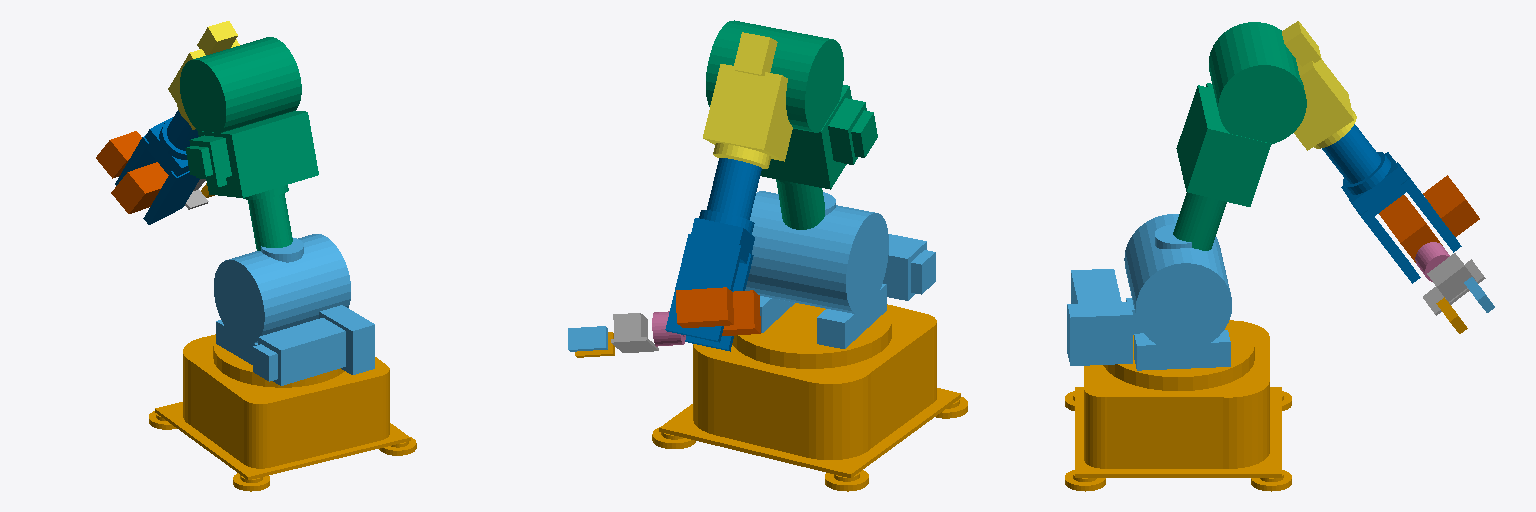
URDF robot description (niryo_ned):
<?xml version="1.0"?>
<robot name="niryo_ned" xmlns:xacro="http://ros.org/wiki/xacro">
  <link name="base_link">
    <visual>
      <origin xyz="0.09 0.09 0.003" rpy="0 0 0"/>
      <geometry>
        <cylinder radius="0.02" length="0.006"/>
      </geometry>
    </visual>
    <collision>
      <origin xyz="0.09 0.09 0.003" rpy="0 0 0"/>
      <geometry>
        <cylinder radius="0.02" length="0.006"/>
      </geometry>
    </collision>
    <visual>
      <origin xyz="-0.09 0.09 0.003" rpy="0 0 0"/>
      <geometry>
        <cylinder radius="0.02" length="0.006"/>
      </geometry>
    </visual>
    <collision>
      <origin xyz="-0.09 0.09 0.003" rpy="0 0 0"/>
      <geometry>
        <cylinder radius="0.02" length="0.006"/>
      </geometry>
    </collision>
    <visual>
      <origin xyz="0.09 -0.09 0.003" rpy="0 0 0"/>
      <geometry>
        <cylinder radius="0.02" length="0.006"/>
      </geometry>
    </visual>
    <collision>
      <origin xyz="0.09 -0.09 0.003" rpy="0 0 0"/>
      <geometry>
        <cylinder radius="0.02" length="0.006"/>
      </geometry>
    </collision>
    <visual>
      <origin xyz="-0.09 -0.09 0.003" rpy="0 0 0"/>
      <geometry>
        <cylinder radius="0.02" length="0.006"/>
      </geometry>
    </visual>
    <collision>
      <origin xyz="-0.09 -0.09 0.003" rpy="0 0 0"/>
      <geometry>
        <cylinder radius="0.02" length="0.006"/>
      </geometry>
    </collision>
    <visual>
      <origin xyz="0.09 0.09 0.008" rpy="0 0 0"/>
      <geometry>
        <cylinder radius="0.012" length="0.004"/>
      </geometry>
    </visual>
    <collision>
      <origin xyz="0.09 0.09 0.008" rpy="0 0 0"/>
      <geometry>
        <cylinder radius="0.012" length="0.004"/>
      </geometry>
    </collision>
    <visual>
      <origin xyz="-0.09 0.09 0.008" rpy="0 0 0"/>
      <geometry>
        <cylinder radius="0.012" length="0.004"/>
      </geometry>
    </visual>
    <collision>
      <origin xyz="-0.09 0.09 0.008" rpy="0 0 0"/>
      <geometry>
        <cylinder radius="0.012" length="0.004"/>
      </geometry>
    </collision>
    <visual>
      <origin xyz="0.09 -0.09 0.008" rpy="0 0 0"/>
      <geometry>
        <cylinder radius="0.012" length="0.004"/>
      </geometry>
    </visual>
    <collision>
      <origin xyz="0.09 -0.09 0.008" rpy="0 0 0"/>
      <geometry>
        <cylinder radius="0.012" length="0.004"/>
      </geometry>
    </collision>
    <visual>
      <origin xyz="-0.09 -0.09 0.008" rpy="0 0 0"/>
      <geometry>
        <cylinder radius="0.012" length="0.004"/>
      </geometry>
    </visual>
    <collision>
      <origin xyz="-0.09 -0.09 0.008" rpy="0 0 0"/>
      <geometry>
        <cylinder radius="0.012" length="0.004"/>
      </geometry>
    </collision>
    <visual>
      <origin xyz="0 0 0.012" rpy="0 0 0"/>
      <geometry>
        <box size="0.2 0.2 0.004"/>
      </geometry>
    </visual>
    <collision>
      <origin xyz="0 0 0.012" rpy="0 0 0"/>
      <geometry>
        <box size="0.2 0.2 0.004"/>
      </geometry>
    </collision>
    <visual>
      <origin xyz="0 -0.0455 0.052" rpy="0 0 0"/>
      <geometry>
        <box size="0.136 0.091 0.076"/>
      </geometry>
    </visual>
    <collision>
      <origin xyz="0 -0.0455 0.052" rpy="0 0 0"/>
      <geometry>
        <box size="0.136 0.091 0.076"/>
      </geometry>
    </collision>
    <visual>
      <origin xyz="0 0.04425 0.052" rpy="0 0 0"/>
      <geometry>
        <box size="0.099 0.0885 0.076"/>
      </geometry>
    </visual>
    <collision>
      <origin xyz="0 0.04425 0.052" rpy="0 0 0"/>
      <geometry>
        <box size="0.099 0.0885 0.076"/>
      </geometry>
    </collision>
    <visual>
      <origin xyz="0.0485 0.0485 0.052" rpy="0 0 0"/>
      <geometry>
        <cylinder radius="0.04" length="0.076"/>
      </geometry>
    </visual>
    <collision>
      <origin xyz="0.0485 0.0485 0.052" rpy="0 0 0"/>
      <geometry>
        <cylinder radius="0.04" length="0.076"/>
      </geometry>
    </collision>
    <visual>
      <origin xyz="-0.0485 0.0485 0.052" rpy="0 0 0"/>
      <geometry>
        <cylinder radius="0.04" length="0.076"/>
      </geometry>
    </visual>
    <collision>
      <origin xyz="-0.0485 0.0485 0.052" rpy="0 0 0"/>
      <geometry>
        <cylinder radius="0.04" length="0.076"/>
      </geometry>
    </collision>
    <visual>
      <origin xyz="0.068 -0.071 0.052" rpy="0 0 0"/>
      <geometry>
        <cylinder radius="0.02" length="0.076"/>
      </geometry>
    </visual>
    <collision>
      <origin xyz="0.068 -0.071 0.052" rpy="0 0 0"/>
      <geometry>
        <cylinder radius="0.02" length="0.076"/>
      </geometry>
    </collision>
    <visual>
      <origin xyz="-0.068 -0.071 0.052" rpy="0 0 0"/>
      <geometry>
        <cylinder radius="0.02" length="0.076"/>
      </geometry>
    </visual>
    <collision>
      <origin xyz="-0.068 -0.071 0.052" rpy="0 0 0"/>
      <geometry>
        <cylinder radius="0.02" length="0.076"/>
      </geometry>
    </collision>
    <visual>
      <origin xyz="0 -0.0095 0.052" rpy="0 0 0"/>
      <geometry>
        <box size="0.176 0.1195 0.076"/>
      </geometry>
    </visual>
    <collision>
      <origin xyz="0 -0.0095 0.052" rpy="0 0 0"/>
      <geometry>
        <box size="0.176 0.1195 0.076"/>
      </geometry>
    </collision>
    <visual>
      <origin xyz="0 0 0.0975" rpy="0 0 0"/>
      <geometry>
        <cylinder radius="0.074" length="0.015"/>
      </geometry>
    </visual>
    <collision>
      <origin xyz="0 0 0.0975" rpy="0 0 0"/>
      <geometry>
        <cylinder radius="0.074" length="0.015"/>
      </geometry>
    </collision>
  </link>
  <joint name="joint_1" type="revolute">
    <parent link="base_link"/>
    <child link="shoulder_link"/>
    <axis xyz="0 0 1"/>
    <limit effort="10000" lower="-2.8" upper="2.8" velocity="10"/>
    <origin xyz="0 0 0.1065" rpy="0 0 0.096"/>
  </joint>
  <link name="shoulder_link">
    <visual>
      <origin xyz="0 0 0.111566" rpy="0 0 0"/>
      <geometry>
        <cylinder radius="0.023" length="0.01"/>
      </geometry>
    </visual>
    <collision>
      <origin xyz="0 0 0.111566" rpy="0 0 0"/>
      <geometry>
        <cylinder radius="0.023" length="0.01"/>
      </geometry>
    </collision>
    <visual>
      <origin xyz="0 0 0.065" rpy="3.141593 1.570793 3.141593"/>
      <geometry>
        <cylinder radius="0.047" length="0.1135"/>
      </geometry>
    </visual>
    <collision>
      <origin xyz="0 0 0.065" rpy="3.141593 1.570793 3.141593"/>
      <geometry>
        <cylinder radius="0.047" length="0.1135"/>
      </geometry>
    </collision>
    <visual>
      <origin xyz="0.041 0 0" rpy="0 0 0"/>
      <geometry>
        <box size="0.0278 0.091 0.05"/>
      </geometry>
    </visual>
    <collision>
      <origin xyz="0.041 0 0" rpy="0 0 0"/>
      <geometry>
        <box size="0.0278 0.091 0.05"/>
      </geometry>
    </collision>
    <visual>
      <origin xyz="-0.041 0 0" rpy="0 0 0"/>
      <geometry>
        <box size="0.0278 0.091 0.05"/>
      </geometry>
    </visual>
    <collision>
      <origin xyz="-0.041 0 0" rpy="0 0 0"/>
      <geometry>
        <box size="0.0278 0.091 0.05"/>
      </geometry>
    </collision>
    <visual>
      <origin xyz="-0.028996 -0.076515 0.028121" rpy="0 0 0"/>
      <geometry>
        <box size="0.085 0.042 0.042"/>
      </geometry>
    </visual>
    <collision>
      <origin xyz="-0.028996 -0.076515 0.028121" rpy="0 0 0"/>
      <geometry>
        <box size="0.085 0.042 0.042"/>
      </geometry>
    </collision>
    <visual>
      <origin xyz="0.028993 -0.078529 0.02697" rpy="0 0 0"/>
      <geometry>
        <box size="0.03 0.061 0.052"/>
      </geometry>
    </visual>
    <collision>
      <origin xyz="0.028993 -0.078529 0.02697" rpy="0 0 0"/>
      <geometry>
        <box size="0.03 0.061 0.052"/>
      </geometry>
    </collision>
    <visual>
      <origin xyz="-0.077134 -0.076515 0.028121" rpy="0 0 0"/>
      <geometry>
        <box size="0.011 0.03 0.03"/>
      </geometry>
    </visual>
    <collision>
      <origin xyz="-0.077134 -0.076515 0.028121" rpy="0 0 0"/>
      <geometry>
        <box size="0.011 0.03 0.03"/>
      </geometry>
    </collision>
  </link>
  <joint name="joint_2" type="revolute">
    <parent link="shoulder_link"/>
    <child link="arm_link"/>
    <axis xyz="0 0 1"/>
    <limit effort="10000" lower="-0.8" upper="0.8" velocity="10"/>
    <origin xyz="0 0 0.065" rpy="-1.568102 -1.270794 1.568222"/>
  </joint>
  <link name="arm_link">
    <visual>
      <origin xyz="0.16 0 0.060549" rpy="0 0 0"/>
      <geometry>
        <box size="0.042 0.04 0.02"/>
      </geometry>
    </visual>
    <collision>
      <origin xyz="0.16 0 0.060549" rpy="0 0 0"/>
      <geometry>
        <box size="0.042 0.04 0.02"/>
      </geometry>
    </collision>
    <visual>
      <origin xyz="0.16 0 0.075315" rpy="0 0 0"/>
      <geometry>
        <box size="0.03 0.03 0.01"/>
      </geometry>
    </visual>
    <collision>
      <origin xyz="0.16 0 0.075315" rpy="0 0 0"/>
      <geometry>
        <box size="0.03 0.03 0.01"/>
      </geometry>
    </collision>
    <visual>
      <origin xyz="0.133834 0.000241 0.058238" rpy="0 0 0"/>
      <geometry>
        <box size="0.01 0.02 0.012"/>
      </geometry>
    </visual>
    <collision>
      <origin xyz="0.133834 0.000241 0.058238" rpy="0 0 0"/>
      <geometry>
        <box size="0.01 0.02 0.012"/>
      </geometry>
    </collision>
    <visual>
      <origin xyz="0.08 0 0" rpy="3.141593 1.570793 3.141593"/>
      <geometry>
        <cylinder radius="0.02" length="0.07"/>
      </geometry>
    </visual>
    <collision>
      <origin xyz="0.08 0 0" rpy="3.141593 1.570793 3.141593"/>
      <geometry>
        <cylinder radius="0.02" length="0.07"/>
      </geometry>
    </collision>
    <visual>
      <origin xyz="0.221923 0.011892 0" rpy="0 0 0"/>
      <geometry>
        <cylinder radius="0.043" length="0.0986"/>
      </geometry>
    </visual>
    <collision>
      <origin xyz="0.221923 0.011892 0" rpy="0 0 0"/>
      <geometry>
        <cylinder radius="0.043" length="0.0986"/>
      </geometry>
    </collision>
    <visual>
      <origin xyz="0.11 0 0" rpy="3.141593 1.570793 3.141593"/>
      <geometry>
        <cylinder radius="0.025" length="0.01"/>
      </geometry>
    </visual>
    <collision>
      <origin xyz="0.11 0 0" rpy="3.141593 1.570793 3.141593"/>
      <geometry>
        <cylinder radius="0.025" length="0.01"/>
      </geometry>
    </collision>
    <visual>
      <origin xyz="0.15 0 0" rpy="0 0 0"/>
      <geometry>
        <box size="0.07 0.065 0.1"/>
      </geometry>
    </visual>
    <collision>
      <origin xyz="0.15 0 0" rpy="0 0 0"/>
      <geometry>
        <box size="0.07 0.065 0.1"/>
      </geometry>
    </collision>
  </link>
  <joint name="joint_3" type="revolute">
    <parent link="arm_link"/>
    <child link="elbow_link"/>
    <axis xyz="0 0 1"/>
    <limit effort="10000" lower="-1.5" upper="1.3" velocity="10"/>
    <origin xyz="0.221 0.012 0" rpy="0 0 0.673"/>
  </joint>
  <link name="elbow_link">
    <visual>
      <origin xyz="0.057878 -0.008958 -0.000023" rpy="0 0 0"/>
      <geometry>
        <box size="0.02 0.035 0.028"/>
      </geometry>
    </visual>
    <collision>
      <origin xyz="0.057878 -0.008958 -0.000023" rpy="0 0 0"/>
      <geometry>
        <box size="0.02 0.035 0.028"/>
      </geometry>
    </collision>
    <visual>
      <origin xyz="0.032172 0.039196 -0.000023" rpy="0 0 0"/>
      <geometry>
        <box size="0.055 0.07 0.061"/>
      </geometry>
    </visual>
    <collision>
      <origin xyz="0.032172 0.039196 -0.000023" rpy="0 0 0"/>
      <geometry>
        <box size="0.055 0.07 0.061"/>
      </geometry>
    </collision>
    <visual>
      <origin xyz="0.032406 0.08 0" rpy="1.5708 0 0"/>
      <geometry>
        <cylinder radius="0.026" length="0.01"/>
      </geometry>
    </visual>
    <collision>
      <origin xyz="0.032406 0.08 0" rpy="1.5708 0 0"/>
      <geometry>
        <cylinder radius="0.026" length="0.01"/>
      </geometry>
    </collision>
  </link>
  <joint name="joint_4" type="revolute">
    <parent link="elbow_link"/>
    <child link="forearm_link"/>
    <axis xyz="-0.000001 0 1"/>
    <limit effort="10000" lower="-2" upper="2" velocity="10"/>
    <origin xyz="0.032 0.042 0" rpy="1.570796 0.166407 -3.140796"/>
  </joint>
  <link name="forearm_link">
    <visual>
      <origin xyz="0 0 0.11796" rpy="0 0 0"/>
      <geometry>
        <box size="0.057 0.046 0.026"/>
      </geometry>
    </visual>
    <collision>
      <origin xyz="0 0 0.11796" rpy="0 0 0"/>
      <geometry>
        <box size="0.057 0.046 0.026"/>
      </geometry>
    </collision>
    <visual>
      <origin xyz="0.024933 0 0.165857" rpy="0 0 0"/>
      <geometry>
        <box size="0.01 0.05 0.09"/>
      </geometry>
    </visual>
    <collision>
      <origin xyz="0.024933 0 0.165857" rpy="0 0 0"/>
      <geometry>
        <box size="0.01 0.05 0.09"/>
      </geometry>
    </collision>
    <visual>
      <origin xyz="-0.024933 0 0.165857" rpy="0 0 0"/>
      <geometry>
        <box size="0.01 0.05 0.09"/>
      </geometry>
    </visual>
    <collision>
      <origin xyz="-0.024933 0 0.165857" rpy="0 0 0"/>
      <geometry>
        <box size="0.01 0.05 0.09"/>
      </geometry>
    </collision>
    <visual>
      <origin xyz="0 0 0.1" rpy="0 0 0"/>
      <geometry>
        <cylinder radius="0.025" length="0.01"/>
      </geometry>
    </visual>
    <collision>
      <origin xyz="0 0 0.1" rpy="0 0 0"/>
      <geometry>
        <cylinder radius="0.025" length="0.01"/>
      </geometry>
    </collision>
    <visual>
      <origin xyz="0 0 0.08" rpy="0 0 0"/>
      <geometry>
        <cylinder radius="0.02" length="0.07"/>
      </geometry>
    </visual>
    <collision>
      <origin xyz="0 0 0.08" rpy="0 0 0"/>
      <geometry>
        <cylinder radius="0.02" length="0.07"/>
      </geometry>
    </collision>
  </link>
  <joint name="joint_5" type="revolute">
    <parent link="forearm_link"/>
    <child link="wrist_link"/>
    <axis xyz="0.000001 0 1"/>
    <limit effort="10000" lower="-1.5" upper="1.5" velocity="10"/>
    <origin xyz="0 0 0.188" rpy="1.570795 -0.271592 -1.570797"/>
  </joint>
  <link name="wrist_link">
    <visual>
      <origin xyz="-0.019278 -0.000743 0" rpy="0 0 0"/>
      <geometry>
        <box size="0.06 0.035 0.031"/>
      </geometry>
    </visual>
    <collision>
      <origin xyz="-0.019278 -0.000743 0" rpy="0 0 0"/>
      <geometry>
        <box size="0.06 0.035 0.031"/>
      </geometry>
    </collision>
    <visual>
      <origin xyz="-0.009676 0.000228 0.045144" rpy="0 0 0"/>
      <geometry>
        <box size="0.047 0.03 0.03"/>
      </geometry>
    </visual>
    <collision>
      <origin xyz="-0.009676 0.000228 0.045144" rpy="0 0 0"/>
      <geometry>
        <box size="0.047 0.03 0.03"/>
      </geometry>
    </collision>
  </link>
  <joint name="joint_6" type="revolute">
    <parent link="wrist_link"/>
    <child link="hand_link"/>
    <axis xyz="0 0 1"/>
    <limit effort="10000" lower="-2.5" upper="2.5" velocity="10"/>
    <origin xyz="0.0197 0.00925 0" rpy="1.311337 1.567692 1.311338"/>
  </joint>
  <link name="hand_link">
    <visual>
      <origin xyz="0 0 0.012597" rpy="0 0 0"/>
      <geometry>
        <cylinder radius="0.0155" length="0.025"/>
      </geometry>
    </visual>
    <collision>
      <origin xyz="0 0 0.012597" rpy="0 0 0"/>
      <geometry>
        <cylinder radius="0.0155" length="0.025"/>
      </geometry>
    </collision>
    <visual>
      <origin xyz="0 0 -0.001" rpy="0 0 0"/>
      <geometry>
        <cylinder radius="0.0083" length="0.001"/>
      </geometry>
    </visual>
    <collision>
      <origin xyz="0 0 -0.001" rpy="0 0 0"/>
      <geometry>
        <cylinder radius="0.0083" length="0.001"/>
      </geometry>
    </collision>
    <visual>
      <origin xyz="0 0 -0.003" rpy="0 0 0"/>
      <geometry>
        <cylinder radius="0.0066" length="0.002"/>
      </geometry>
    </visual>
    <collision>
      <origin xyz="0 0 -0.003" rpy="0 0 0"/>
      <geometry>
        <cylinder radius="0.0066" length="0.002"/>
      </geometry>
    </collision>
  </link>
  <link name="base_gripper">
    <visual>
      <origin xyz="0.013321 -0.023019 0" rpy="0 0 0"/>
      <geometry>
        <box size="0.003 0.033 0.06"/>
      </geometry>
    </visual>
    <collision>
      <origin xyz="0.013321 -0.023019 0" rpy="0 0 0"/>
      <geometry>
        <box size="0.003 0.033 0.06"/>
      </geometry>
    </collision>
    <visual>
      <origin xyz="-0.000465 -0.025439 0.004496" rpy="0 0 0"/>
      <geometry>
        <box size="0.024 0.025 0.034"/>
      </geometry>
    </visual>
    <collision>
      <origin xyz="-0.000465 -0.025439 0.004496" rpy="0 0 0"/>
      <geometry>
        <box size="0.024 0.025 0.034"/>
      </geometry>
    </collision>
  </link>
  <joint name="hand_link_base_gripper_joint" type="fixed">
    <parent link="hand_link"/>
    <child link="base_gripper"/>
    <origin xyz="0 0 0.0215" rpy="-1.57 -0.000001 1.57"/>
  </joint>
  <joint name="joint_base_to_jaw_2" type="prismatic">
    <parent link="base_gripper"/>
    <child link="jaw_2"/>
    <axis xyz="0 -1 0"/>
    <origin xyz="0.01455 -0.0244 -0.011066" rpy="1.5708 0 0"/>
    <limit effort="1" lower="-0.01" upper="0.01" velocity="5"/>
  </joint>
  <link name="jaw_2">
    <visual>
      <origin xyz="-0.007 -0.0064 0.0386" rpy="0 0 0"/>
      <geometry>
        <box size="0.02 0.01 0.035"/>
      </geometry>
    </visual>
    <collision>
      <origin xyz="-0.007 -0.0064 0.0386" rpy="0 0 0"/>
      <geometry>
        <box size="0.02 0.01 0.035"/>
      </geometry>
    </collision>
  </link>
  <joint name="joint_base_to_jaw_1" type="prismatic">
    <parent link="base_gripper"/>
    <child link="jaw_1"/>
    <axis xyz="0 1 0"/>
    <origin xyz="0.01455 -0.0244 0.009614" rpy="1.5708 0 0"/>
    <limit effort="1" lower="-0.01" upper="0.01" velocity="5"/>
  </joint>
  <link name="jaw_1">
    <visual>
      <origin xyz="-0.007 0.0064 0.0386" rpy="0 0 0"/>
      <geometry>
        <box size="0.02 0.01 0.035"/>
      </geometry>
    </visual>
    <collision>
      <origin xyz="-0.007 0.0064 0.0386" rpy="0 0 0"/>
      <geometry>
        <box size="0.02 0.01 0.035"/>
      </geometry>
    </collision>
  </link>
</robot>

--- What the picture shows (computed from the rendered views, not written in the file) ---
3 views of the same robot in one strip: view 1: azimuth 30°, elevation 25°; view 2: azimuth 150°, elevation 25°; view 3: azimuth 270°, elevation 25° (orthographic).
Robot: niryo_ned — 10 links, 9 joints (6 revolute, 2 prismatic, 1 fixed); root link base_link; default pose: all joints at 0.
Visible links, largest first — view 1: base_link, arm_link, shoulder_link, forearm_link, wrist_link, elbow_link; view 2: base_link, shoulder_link, arm_link, forearm_link, elbow_link, wrist_link, base_gripper, jaw_1, hand_link; view 3: base_link, shoulder_link, arm_link, forearm_link, elbow_link, wrist_link, base_gripper, hand_link.
Link boxes in pixels (x1=…): base_link: x1=149, y1=334, x2=416, y2=491; arm_link: x1=180, y1=37, x2=318, y2=250; shoulder_link: x1=214, y1=234, x2=374, y2=385; forearm_link: x1=115, y1=110, x2=199, y2=224; wrist_link: x1=96, y1=131, x2=168, y2=213; elbow_link: x1=168, y1=21, x2=239, y2=129; base_link: x1=652, y1=303, x2=967, y2=491; shoulder_link: x1=745, y1=191, x2=935, y2=348; arm_link: x1=706, y1=20, x2=877, y2=229; forearm_link: x1=665, y1=158, x2=761, y2=351; elbow_link: x1=703, y1=32, x2=792, y2=168; wrist_link: x1=676, y1=287, x2=760, y2=335; base_gripper: x1=611, y1=313, x2=658, y2=352; jaw_1: x1=568, y1=326, x2=607, y2=351; hand_link: x1=652, y1=311, x2=685, y2=346; base_link: x1=1065, y1=320, x2=1291, y2=491; shoulder_link: x1=1067, y1=214, x2=1231, y2=370; arm_link: x1=1173, y1=22, x2=1306, y2=250; forearm_link: x1=1322, y1=124, x2=1461, y2=283; elbow_link: x1=1282, y1=21, x2=1356, y2=150; wrist_link: x1=1379, y1=175, x2=1479, y2=262; base_gripper: x1=1423, y1=253, x2=1485, y2=315; hand_link: x1=1415, y1=242, x2=1449, y2=281.
Bounding box of the posed robot: 0.22 × 0.4164 × 0.4392 m (x, y, z).
Geometry: primitives only (box / cylinder / sphere), no mesh files.
